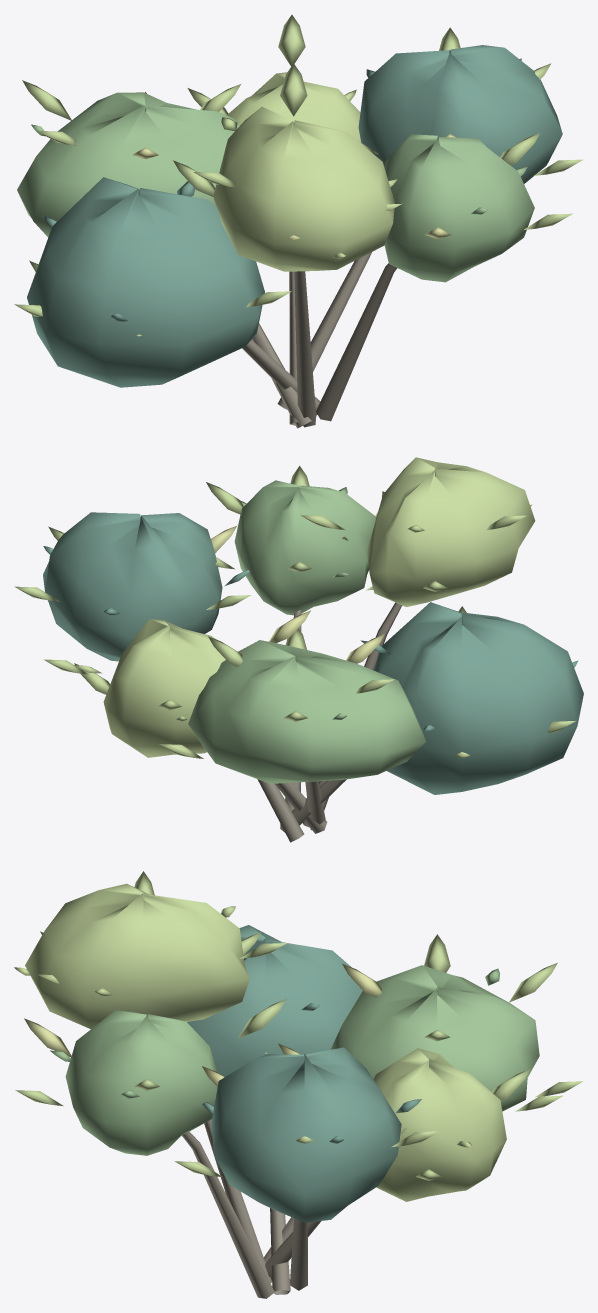
Rendered from bush_compact.glb.
3 views of the same model, one above another, from view 1: azimuth 30°, elevation 25°; view 2: azimuth 150°, elevation 25°; view 3: azimuth 270°, elevation 25° (orthographic). The views are drawn at different scales.
Parts seen in each view (by area): view 1: bush_compact; view 2: bush_compact; view 3: bush_compact.
Part boxes in pixels (<box>): bush_compact: <box>14,15,582,428</box>; bush_compact: <box>14,457,583,842</box>; bush_compact: <box>14,871,582,1298</box>.
Bounding box in the file's own units: 2.45 × 1.54 × 2.2.
